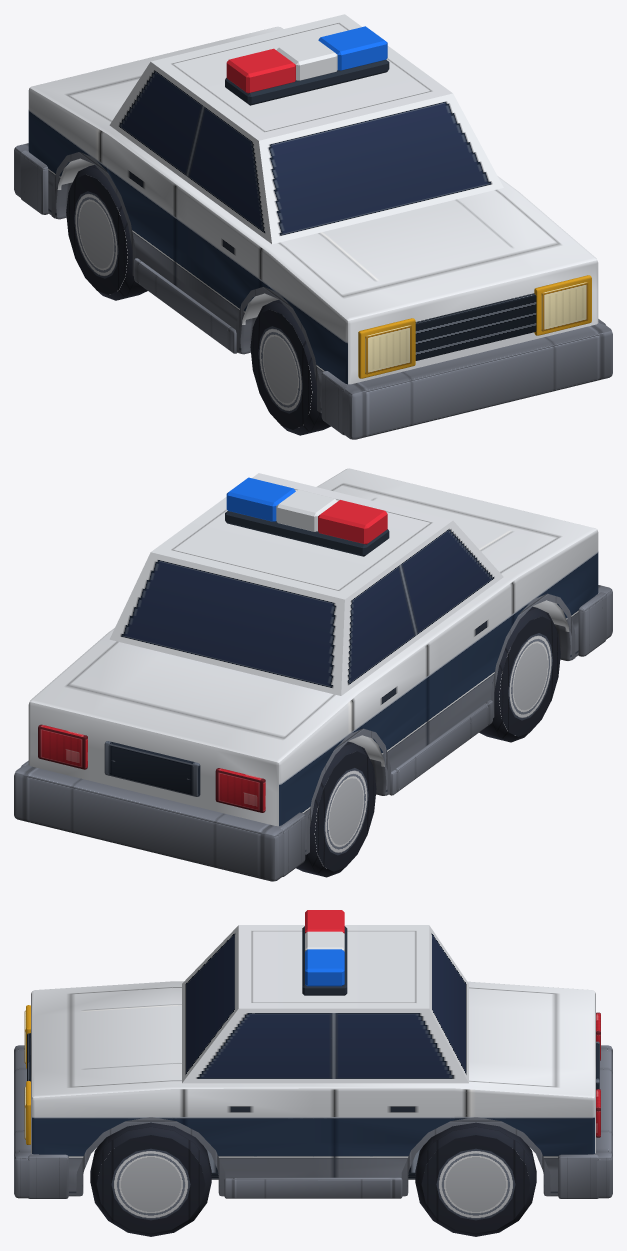
Rendered from police-sedan.glb.
3 views of the same model, one above another, from view 1: azimuth 30°, elevation 25°; view 2: azimuth 150°, elevation 25°; view 3: azimuth 270°, elevation 25° (orthographic). The views are drawn at different scales.
Parts seen in each view (by area): view 1: body, wheel-rear-left, wheel-front-left, beacon-red, lightbar-base, beacon-blue, lightbar-center; view 2: body, wheel-front-left, wheel-rear-left, beacon-red, lightbar-base, beacon-blue, lightbar-center; view 3: body, wheel-rear-right, wheel-front-right, beacon-blue, beacon-red, lightbar-base, lightbar-center.
Part boxes in pixels (x1=…): body: x1=14, y1=14, x2=612, y2=439; wheel-rear-left: x1=66, y1=165, x2=147, y2=300; wheel-front-left: x1=250, y1=300, x2=330, y2=435; beacon-red: x1=226, y1=48, x2=295, y2=93; lightbar-base: x1=225, y1=59, x2=389, y2=105; beacon-blue: x1=318, y1=26, x2=387, y2=70; lightbar-center: x1=276, y1=38, x2=337, y2=80; body: x1=14, y1=468, x2=612, y2=881; wheel-front-left: x1=479, y1=606, x2=560, y2=742; wheel-rear-left: x1=296, y1=741, x2=376, y2=877; beacon-red: x1=318, y1=500, x2=387, y2=544; lightbar-base: x1=225, y1=511, x2=389, y2=556; beacon-blue: x1=226, y1=477, x2=295, y2=521; lightbar-center: x1=276, y1=489, x2=337, y2=531; body: x1=14, y1=925, x2=612, y2=1198; wheel-rear-right: x1=415, y1=1122, x2=536, y2=1236; wheel-front-right: x1=90, y1=1123, x2=211, y2=1236; beacon-blue: x1=305, y1=949, x2=344, y2=986; beacon-red: x1=305, y1=910, x2=344, y2=933; lightbar-base: x1=302, y1=926, x2=347, y2=995; lightbar-center: x1=305, y1=931, x2=344, y2=951.
Size of the model in its own units: 1.9 by 1.93 by 4.24.
Materials: 5 (1 with a texture image).
